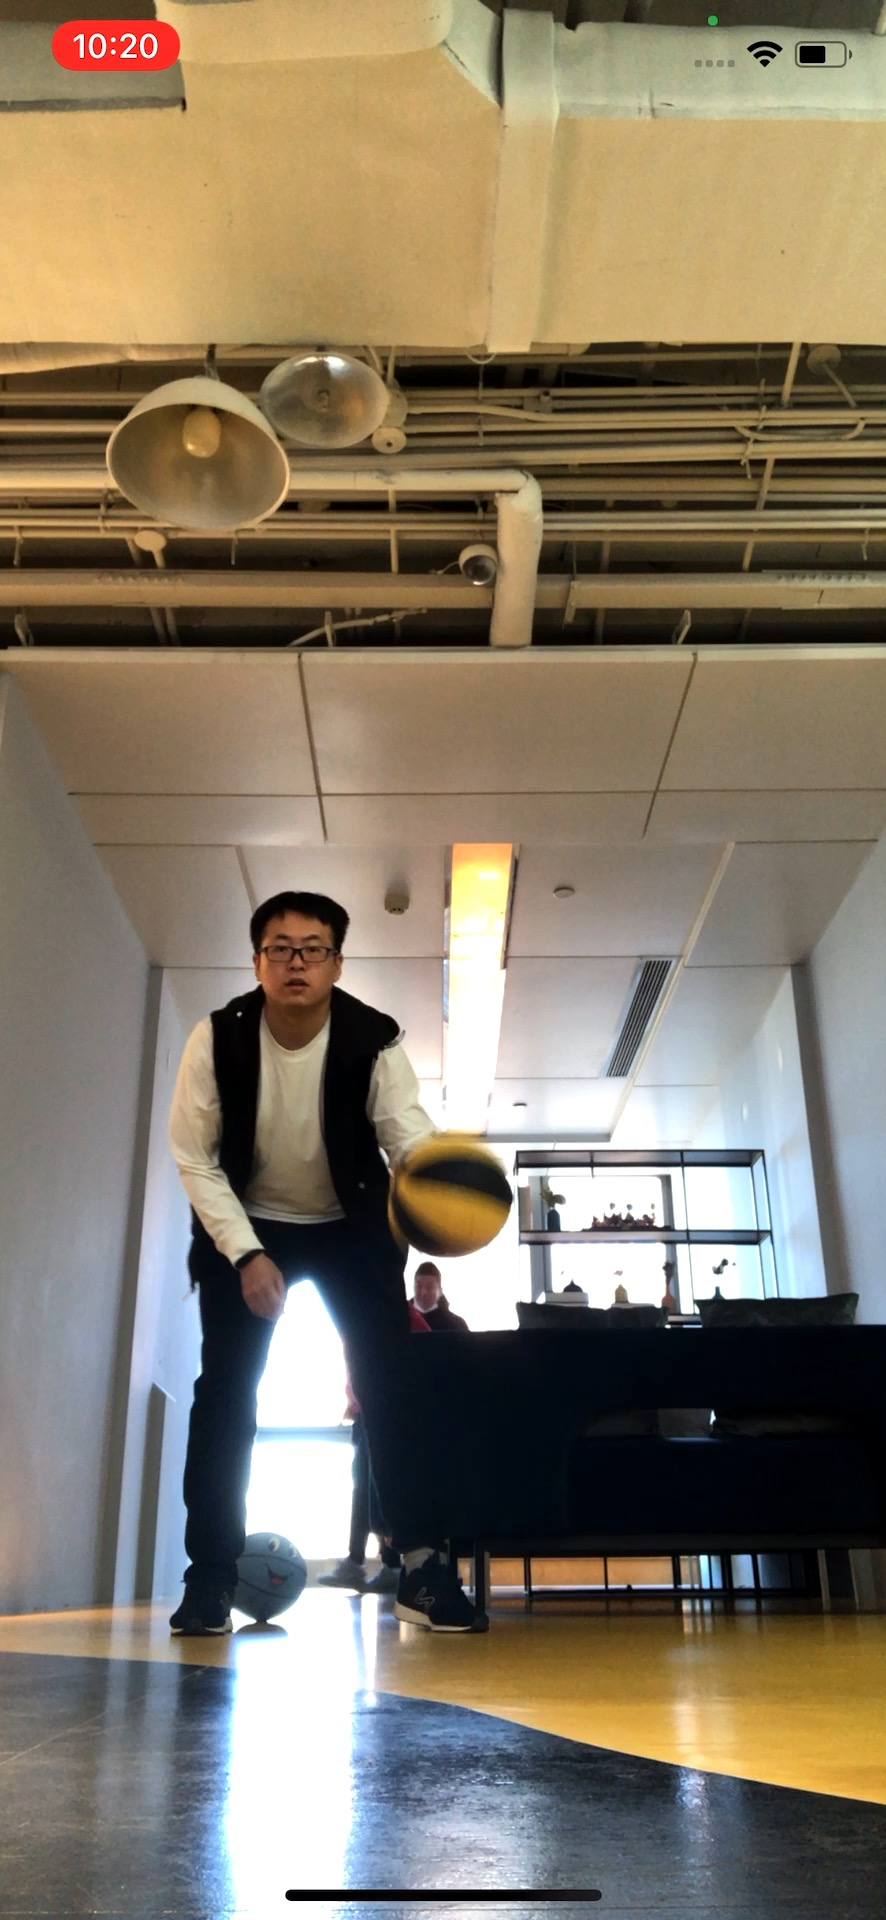ball: (388, 1129, 512, 1255), (229, 1531, 306, 1621)
